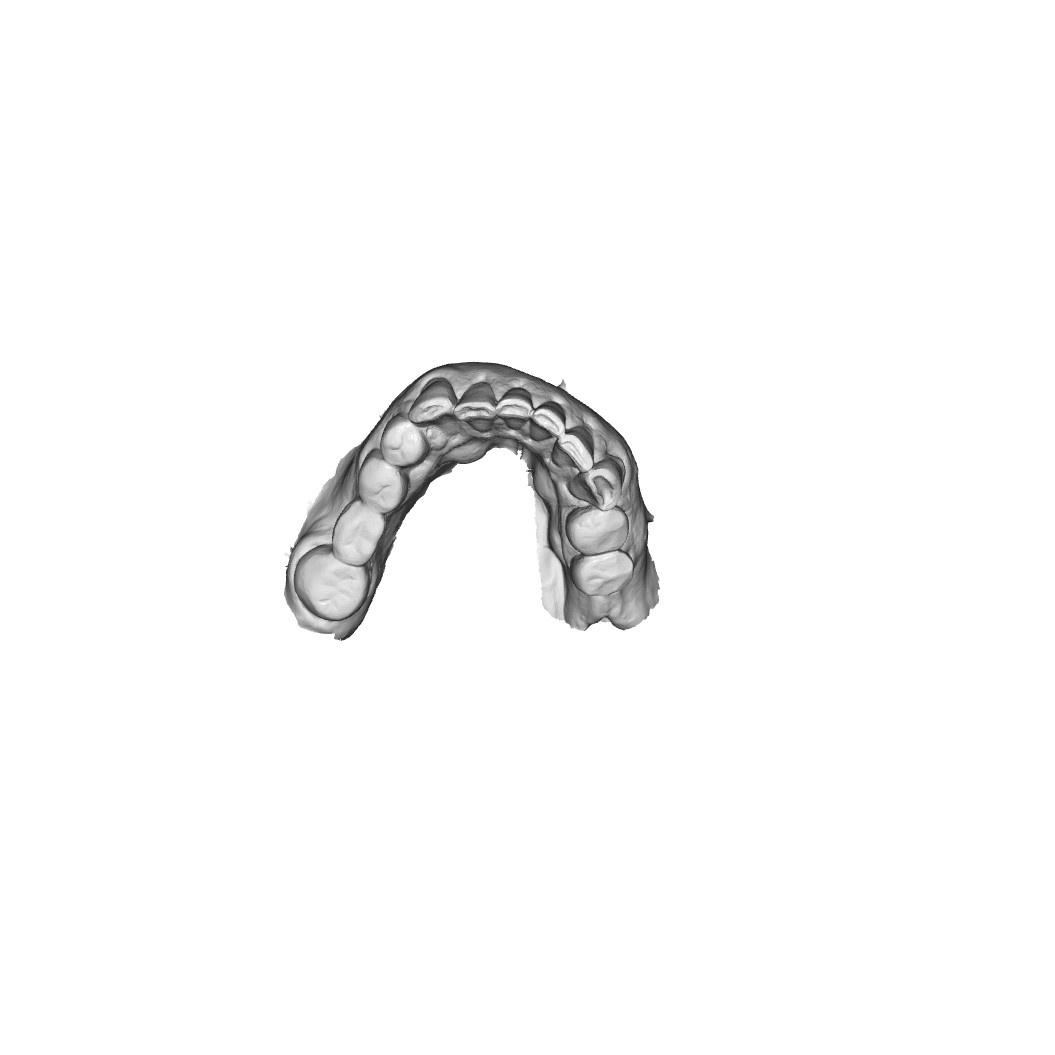canine: (570, 459, 624, 512), (407, 378, 452, 425)
incisor: (454, 382, 498, 430), (550, 431, 593, 470), (496, 386, 529, 428), (533, 405, 567, 440)
molar: (293, 550, 369, 623), (331, 504, 385, 566)
premolar: (572, 550, 634, 599), (565, 506, 627, 555), (361, 452, 406, 509), (383, 420, 421, 463)
